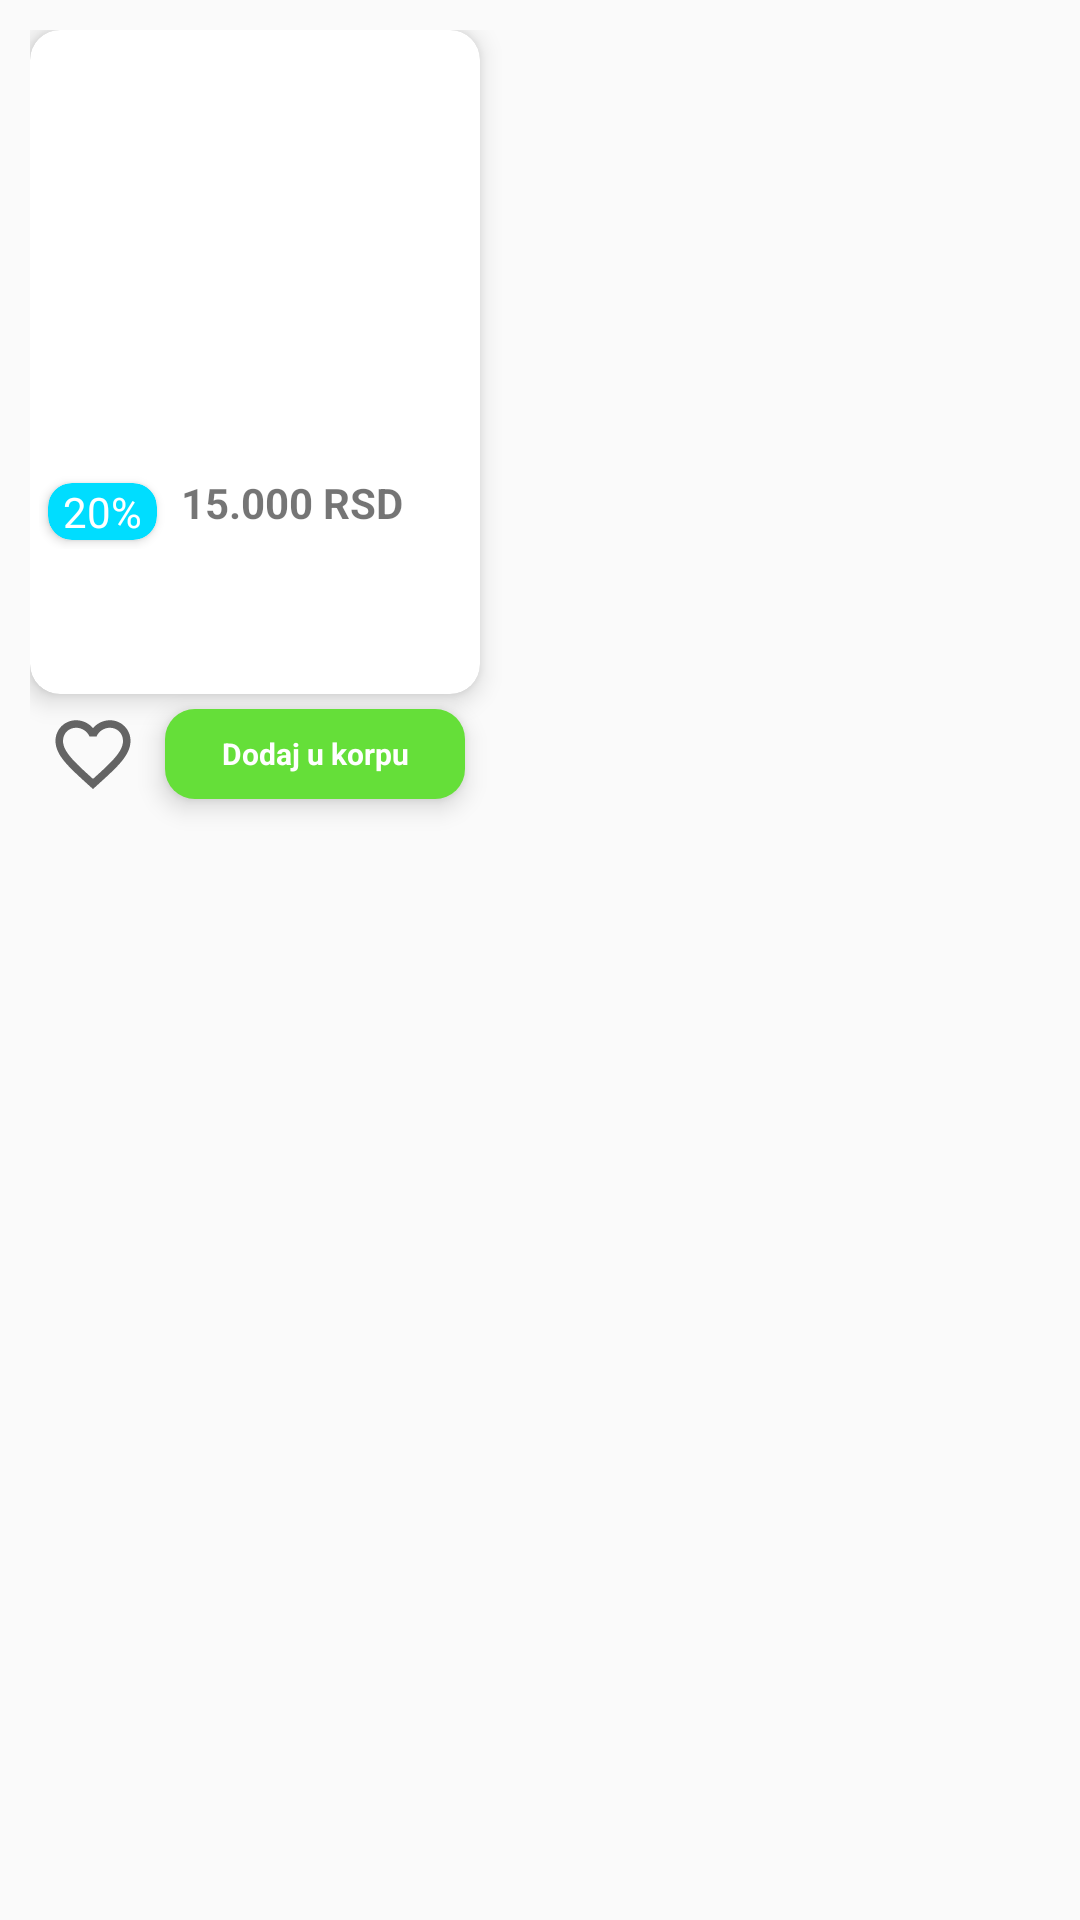

Where icons sit on this 1080px x 1920px app screen, as bbox(x1, y1, x2, y2):
favorite border: bbox(55, 720, 131, 789)
